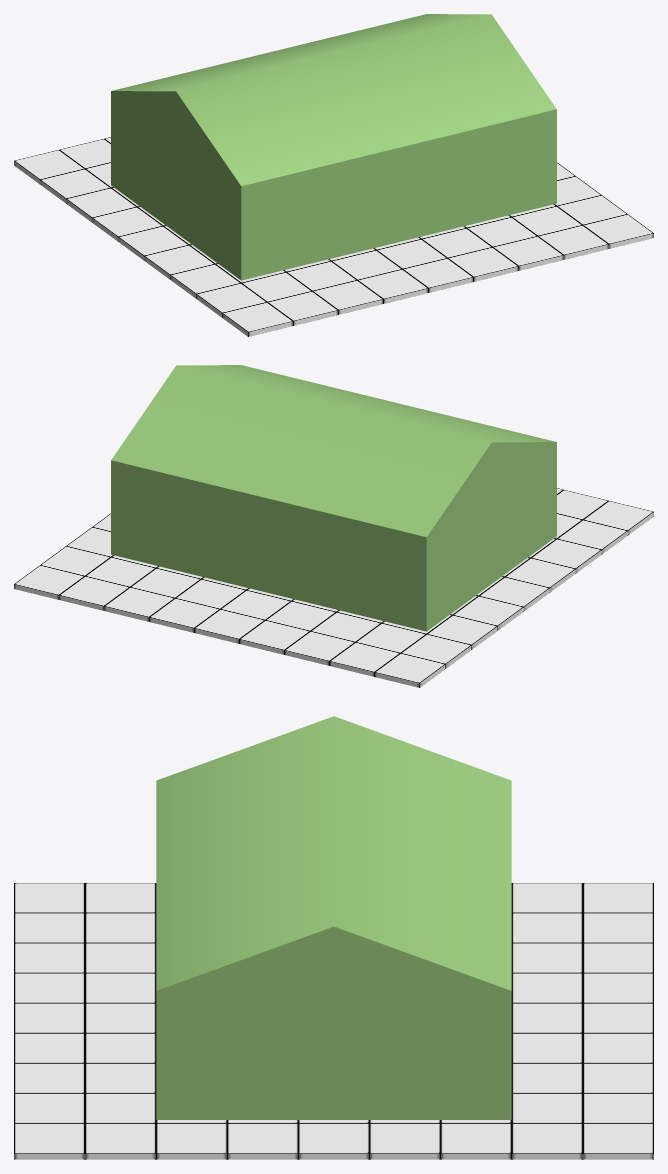
Rendered from XG_Big-barn.glb.
The picture shows the model from 3 angles, top to bottom: view 1: azimuth 30°, elevation 25°; view 2: azimuth 150°, elevation 25°; view 3: azimuth 270°, elevation 25°; orthographic projection. The views are drawn at different scales.
Parts seen in each view (by area): view 1: building_5m_5m_003, 1m_base_block_2845, 1m_base_block_2839, 1m_base_block_2838, 1m_base_block_2842, 1m_base_block_2844, 1m_base_block_2840, 1m_base_block_2841, 1m_base_block_2846, 1m_base_block_2843, 1m_base_block_2828, 1m_base_block_2827 (+16 smaller); view 2: building_5m_5m_003, 1m_base_block_2854, 1m_base_block_2848, 1m_base_block_2847, 1m_base_block_2851, 1m_base_block_2853, 1m_base_block_2849, 1m_base_block_2850, 1m_base_block_2855, 1m_base_block_2852, 1m_base_block_2824, 1m_base_block_2825 (+16 smaller); view 3: building_5m_5m_003, 1m_base_block_2831, 1m_base_block_2832, 1m_base_block_2833, 1m_base_block_2834, 1m_base_block_2835, 1m_base_block_2836, 1m_base_block_2837, 1m_base_block_2846, 1m_base_block_2855, 1m_base_block_2800, 1m_base_block_2801 (+30 smaller).
Part boxes in pixels (x1,y1,x2,y2): building_5m_5m_003: (111,14,556,280); 1m_base_block_2845: (222,302,293,336); 1m_base_block_2839: (448,247,518,281); 1m_base_block_2838: (493,236,563,270); 1m_base_block_2842: (312,280,383,314); 1m_base_block_2844: (267,291,338,325); 1m_base_block_2840: (403,258,473,292); 1m_base_block_2841: (358,269,428,303); 1m_base_block_2846: (583,214,653,248); 1m_base_block_2843: (538,225,608,259); 1m_base_block_2828: (170,264,240,298); 1m_base_block_2827: (144,245,214,279); building_5m_5m_003: (111,365,556,631); 1m_base_block_2854: (374,653,445,687); 1m_base_block_2848: (149,598,219,632); 1m_base_block_2847: (104,587,174,621); 1m_base_block_2851: (284,631,355,665); 1m_base_block_2853: (329,642,400,676); 1m_base_block_2849: (194,609,264,643); 1m_base_block_2850: (239,620,309,654); 1m_base_block_2855: (14,565,84,599); 1m_base_block_2852: (59,576,129,610); 1m_base_block_2824: (427,615,497,649); 1m_base_block_2825: (453,596,523,630); building_5m_5m_003: (156,716,511,1119); 1m_base_block_2831: (440,1123,511,1159); 1m_base_block_2832: (369,1123,440,1159); 1m_base_block_2833: (298,1123,369,1159); 1m_base_block_2834: (227,1123,298,1159); 1m_base_block_2835: (156,1123,227,1159); 1m_base_block_2836: (511,1123,582,1159); 1m_base_block_2837: (85,1123,156,1159); 1m_base_block_2846: (14,1123,84,1159); 1m_base_block_2855: (583,1123,653,1159); 1m_base_block_2800: (511,1063,582,1093); 1m_base_block_2801: (511,1033,582,1063).
Bounding box in the file's own units: 9 × 3.15 × 9.
Materials: 2 (1 with a texture image).
